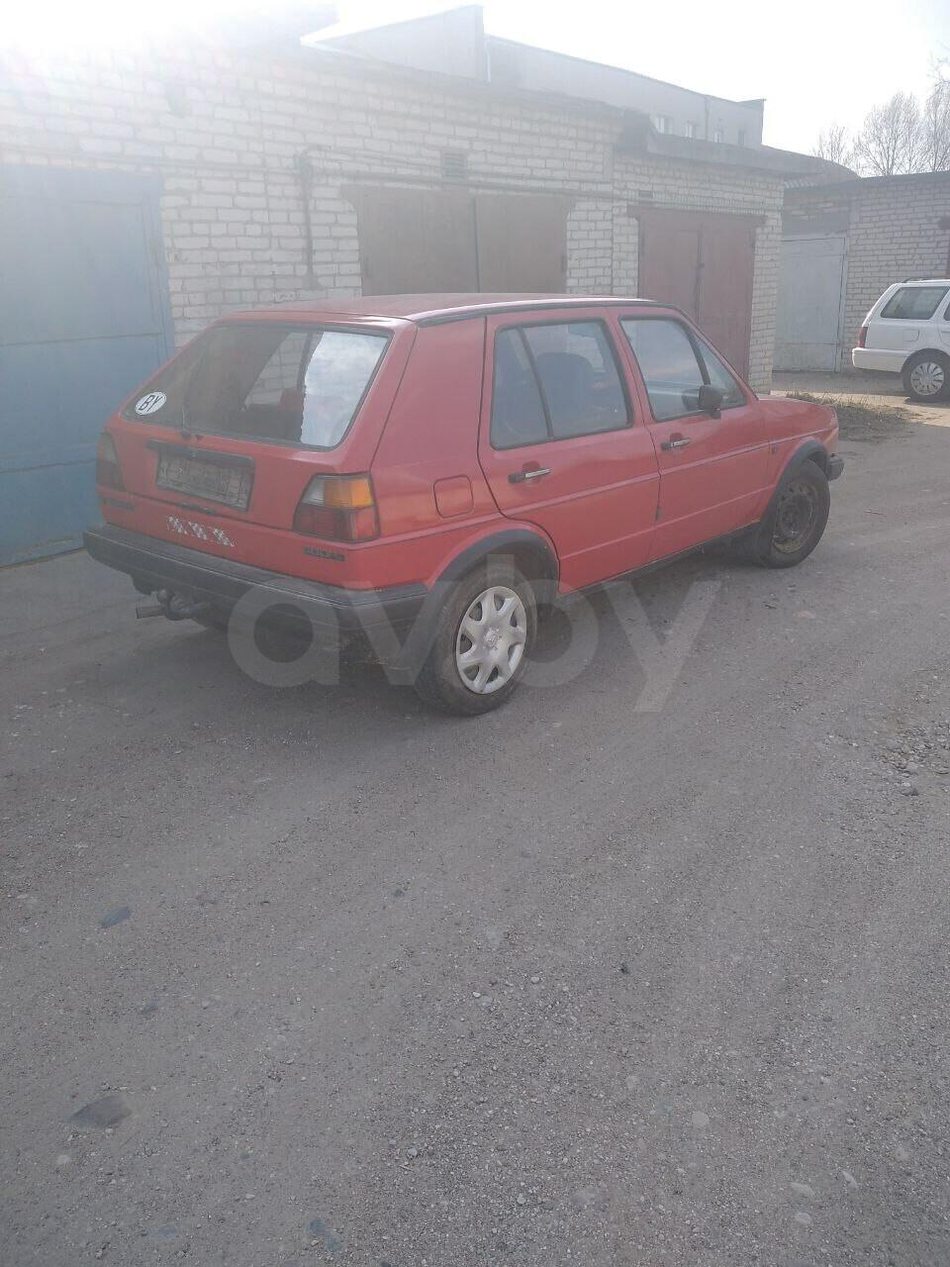Golf_1991-2000: (87, 290, 847, 705)
